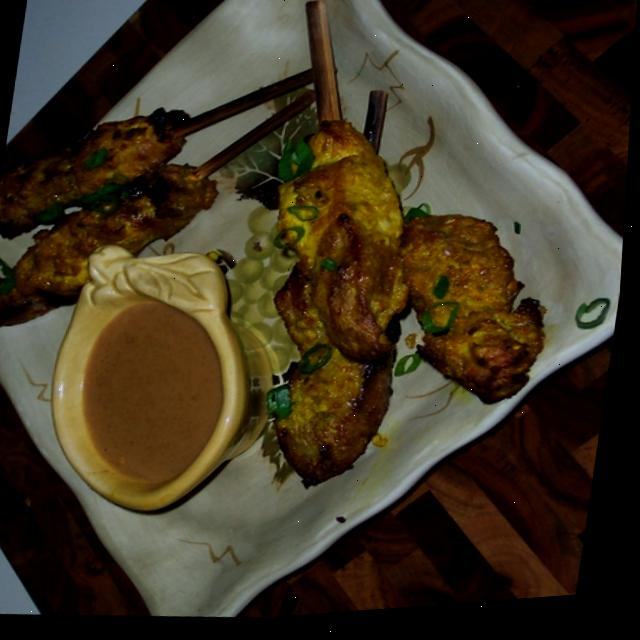牛肉菜式: (0, 18, 588, 550)
